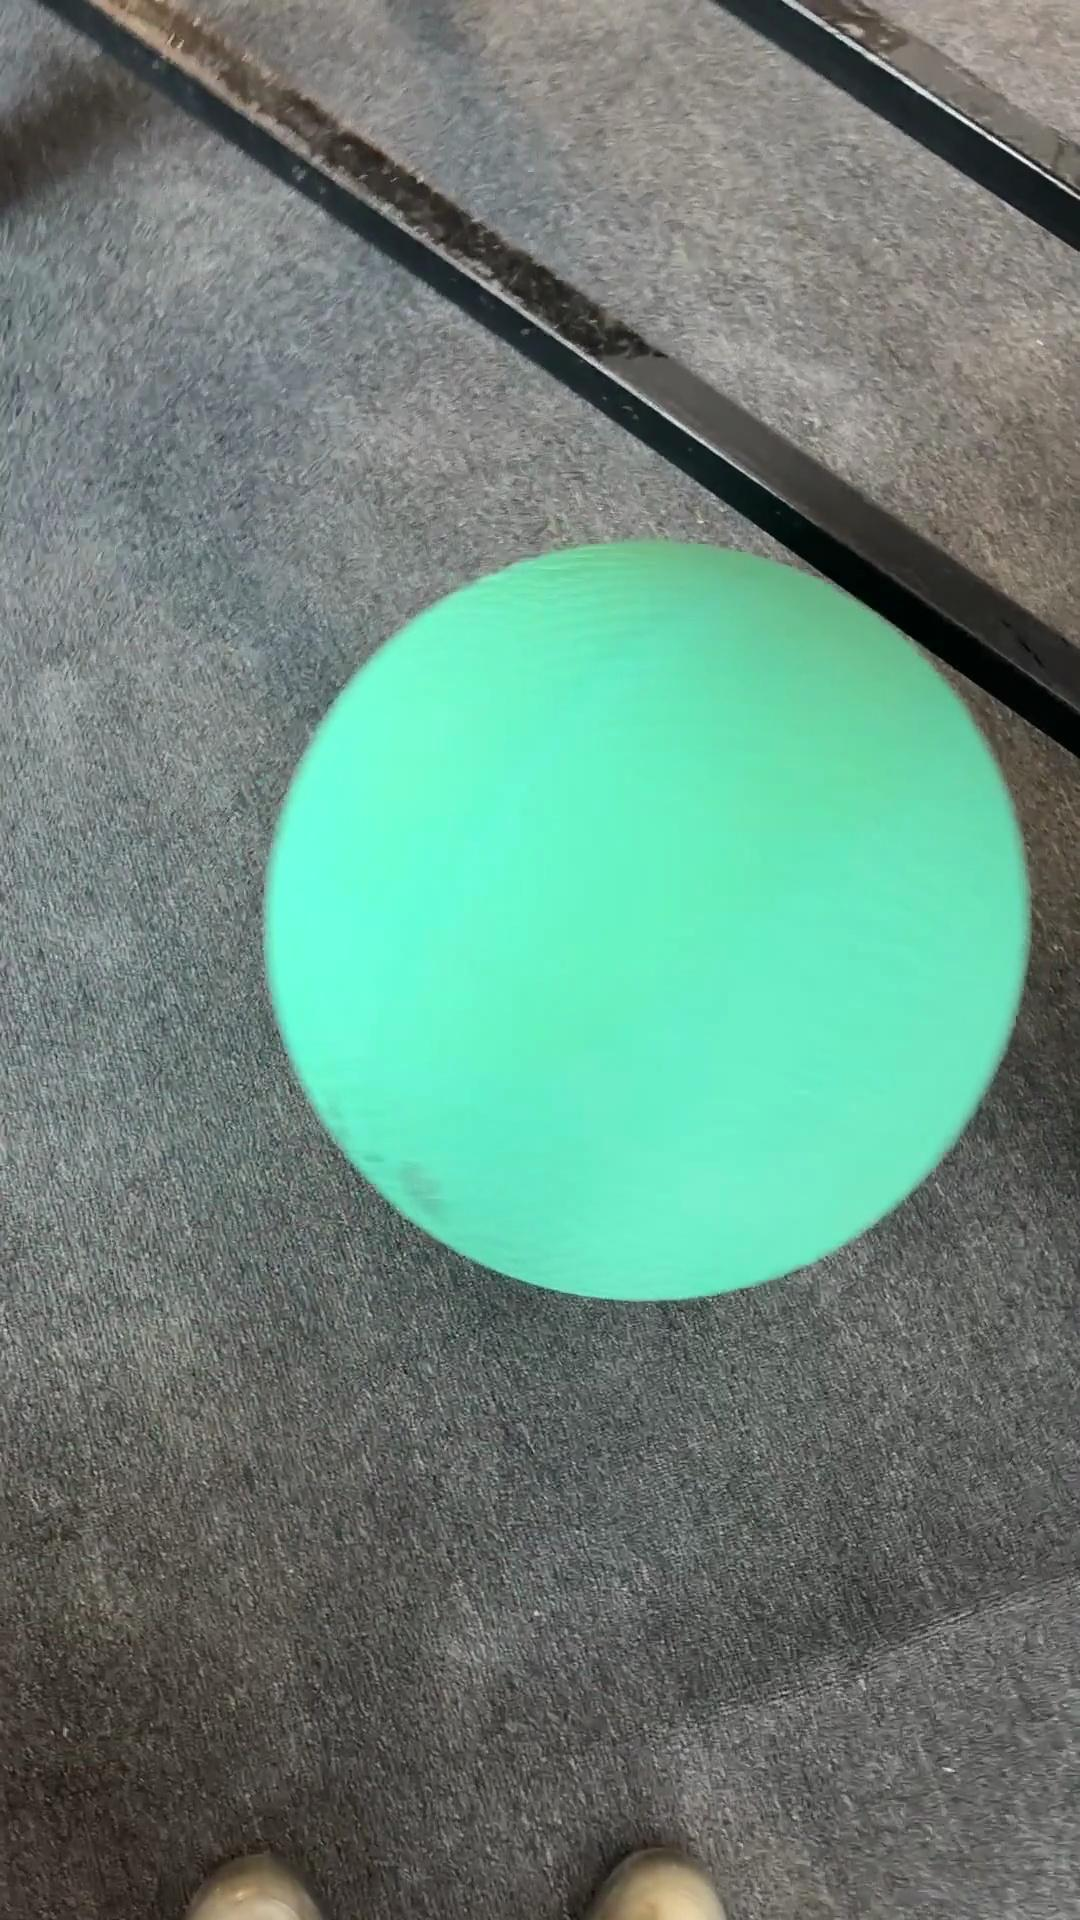ALGAE: (259, 536, 1033, 1305)
